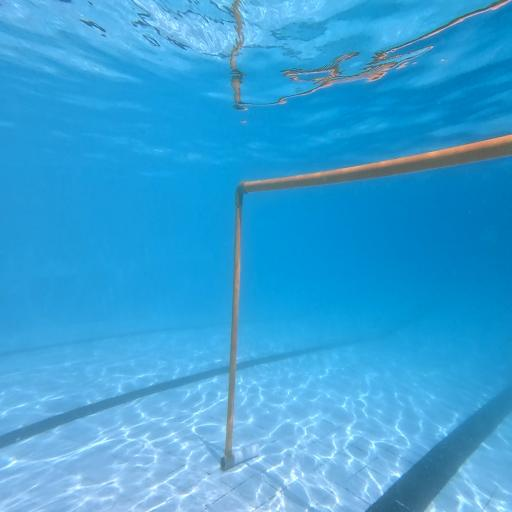gate: (221, 132, 512, 470)
